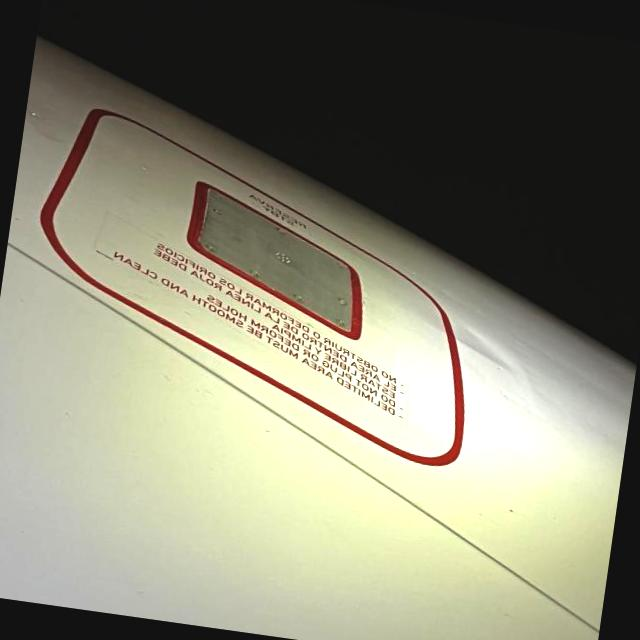dent: (408, 306, 534, 397)
